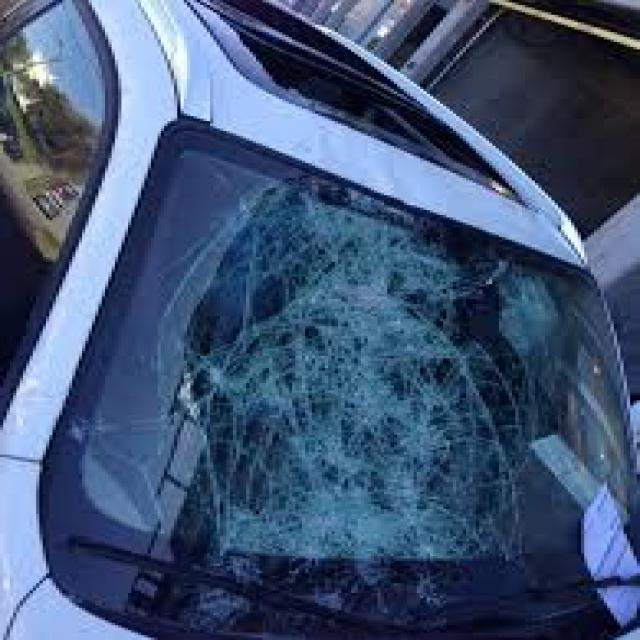damaged-windscreen: (64, 102, 640, 633)
